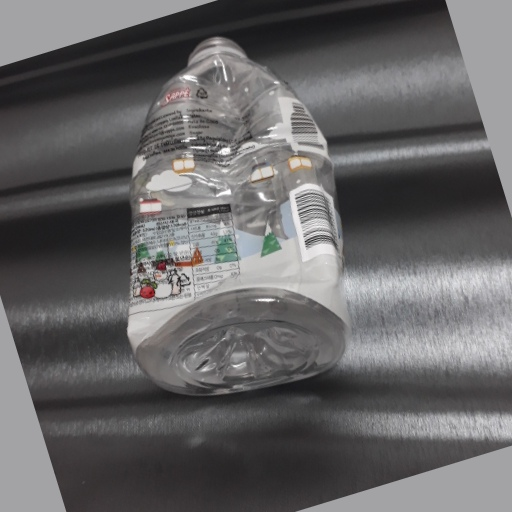Plastic_0: (123, 32, 352, 389)
